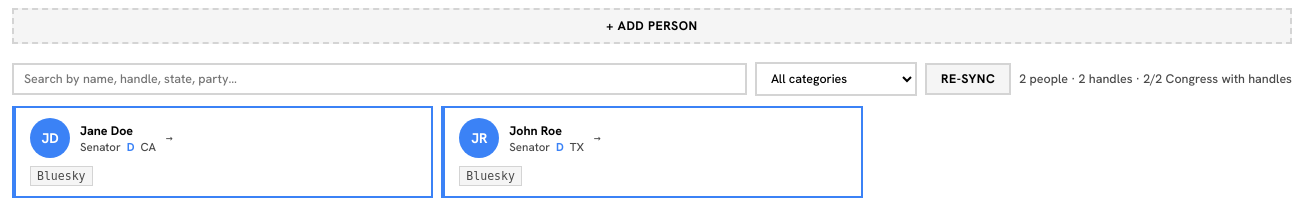
Test: PeopleTab — search + filter › filters by state (MoC metadata)
Expected: the text "Jane Doe" is shown, [80,122,133,138]
Expected: the text "2 people · 2 handles · 2/2 Congress with handles" is shown, [1019,71,1292,87]
Type "tx" into the field with placeholder "Search by name, handle, state, party…" at (379, 79), box [12,63,747,95]
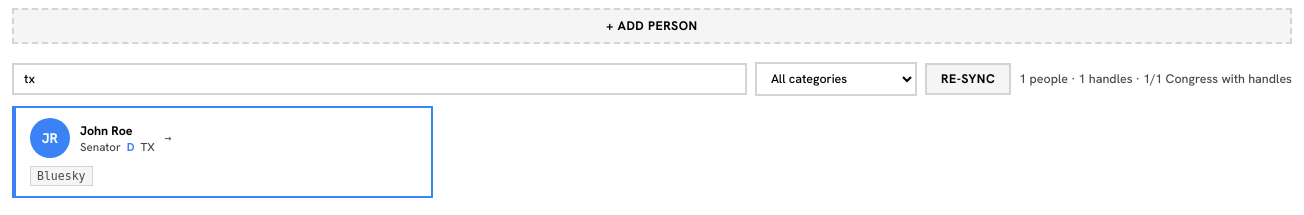
Expected: the text "John Roe" is shown, [80,122,133,138]
Expected: the button "Jane Doe" is gone
